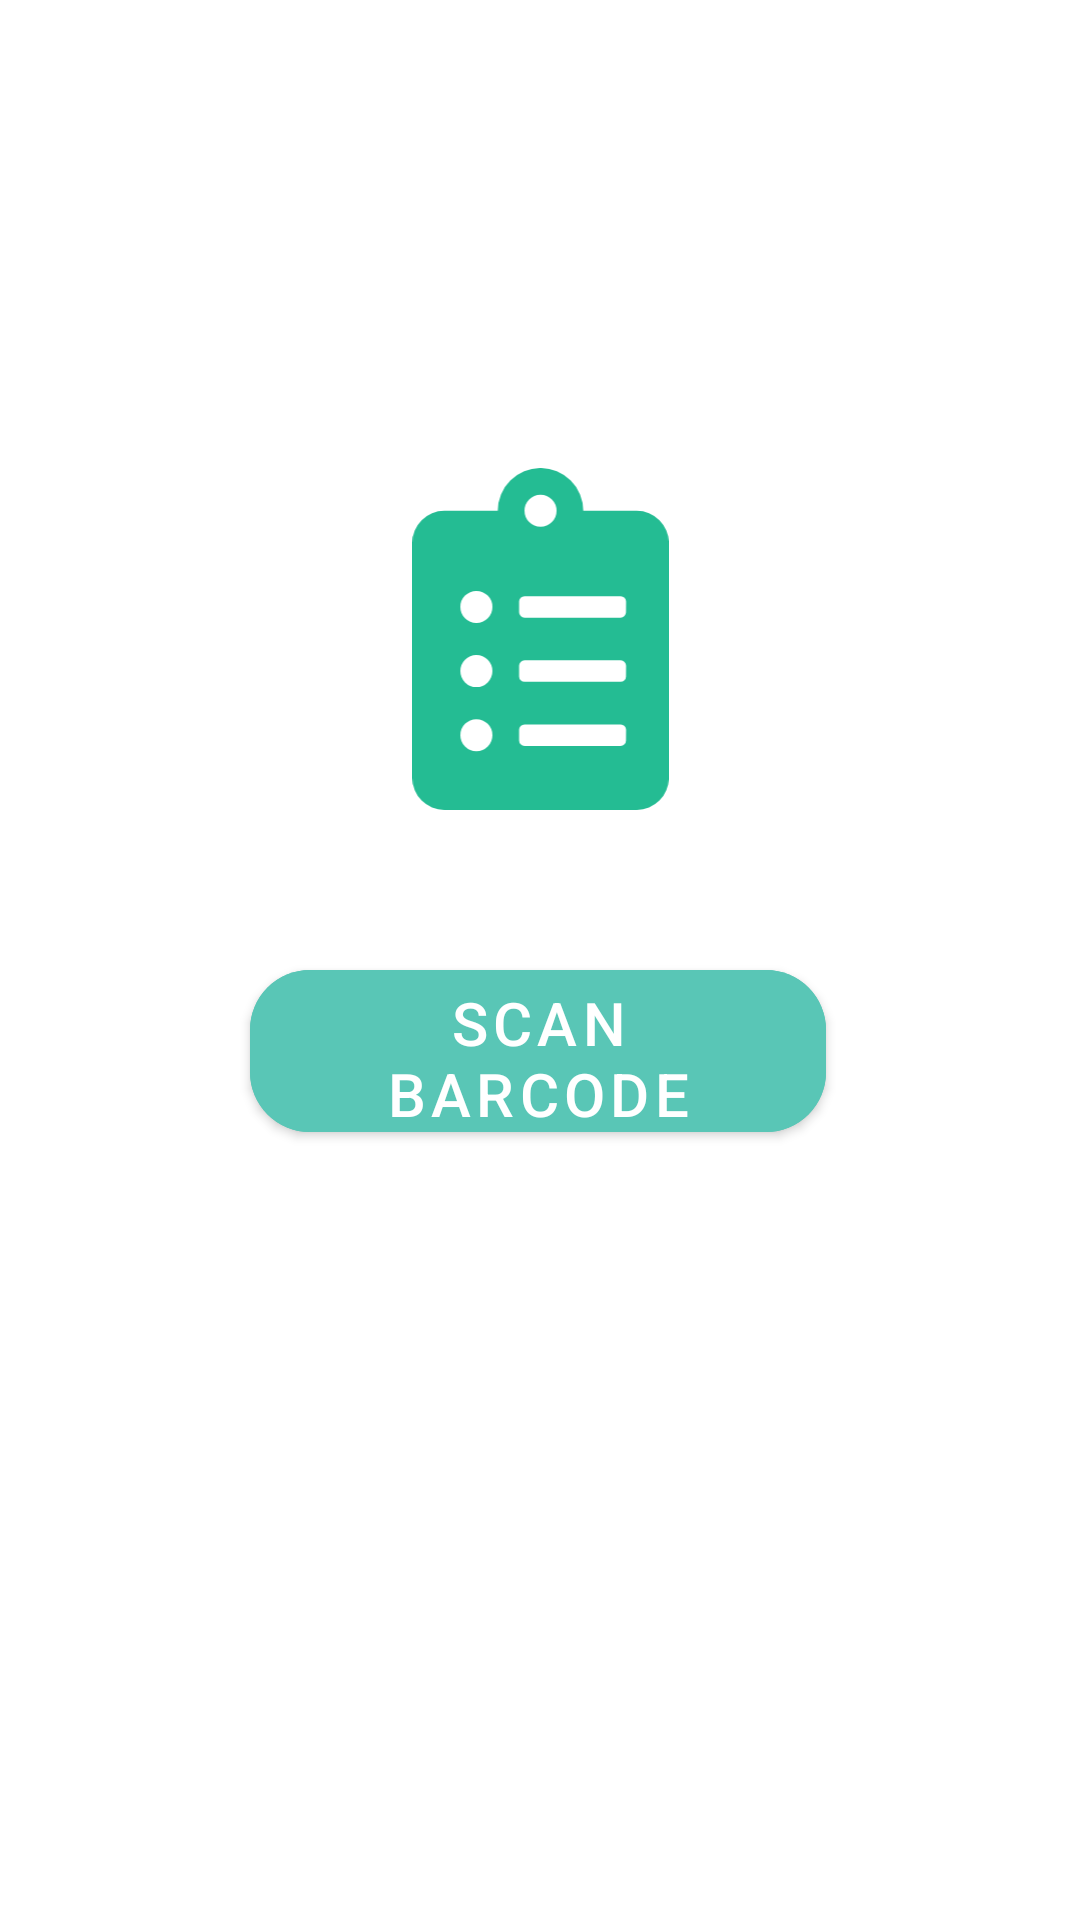

Screen size 1080px×1920px. Icon name, then its center in pixels as (x,y):
clipboard: (540,639)
